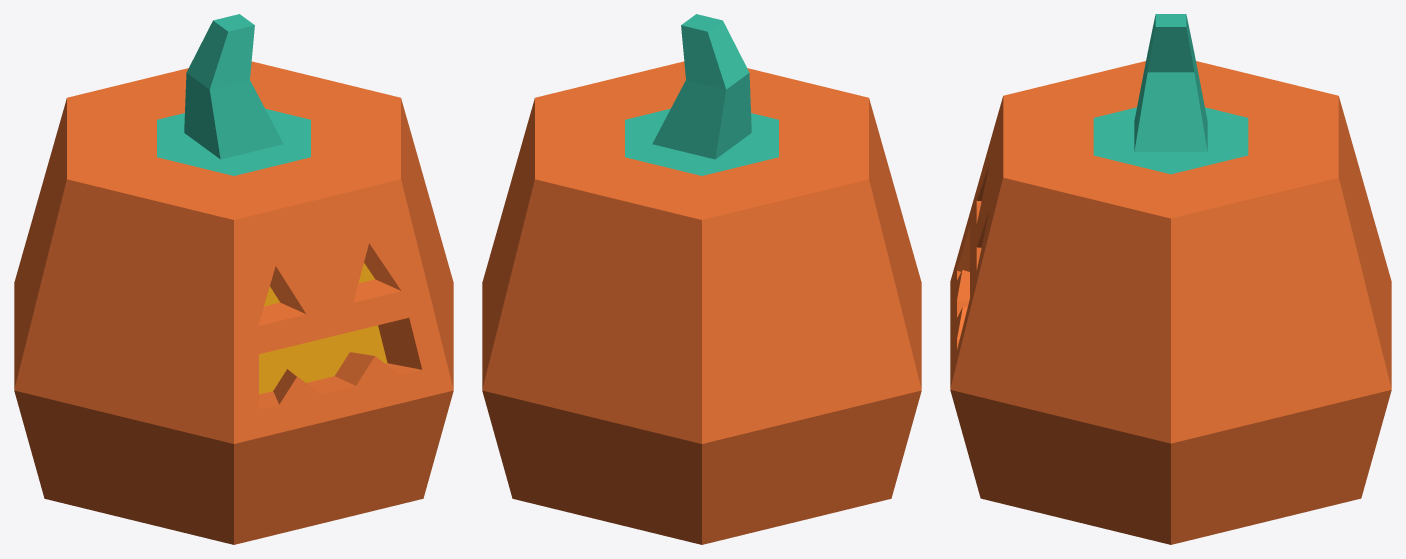
Rendered from pumpkinTallCarved.obj.
3 views of the same model, side by side, from view 1: azimuth 30°, elevation 25°; view 2: azimuth 150°, elevation 25°; view 3: azimuth 270°, elevation 25° (orthographic).
Parts seen in each view (by area): view 1: pumpkinTallCarved; view 2: pumpkinTallCarved; view 3: pumpkinTallCarved.
Part boxes in pixels (x1=…): pumpkinTallCarved: x1=14, y1=14, x2=453, y2=544; pumpkinTallCarved: x1=482, y1=14, x2=921, y2=544; pumpkinTallCarved: x1=950, y1=14, x2=1391, y2=544.
Bounding box in the file's own units: 0.2784 × 0.26 × 0.2411.
